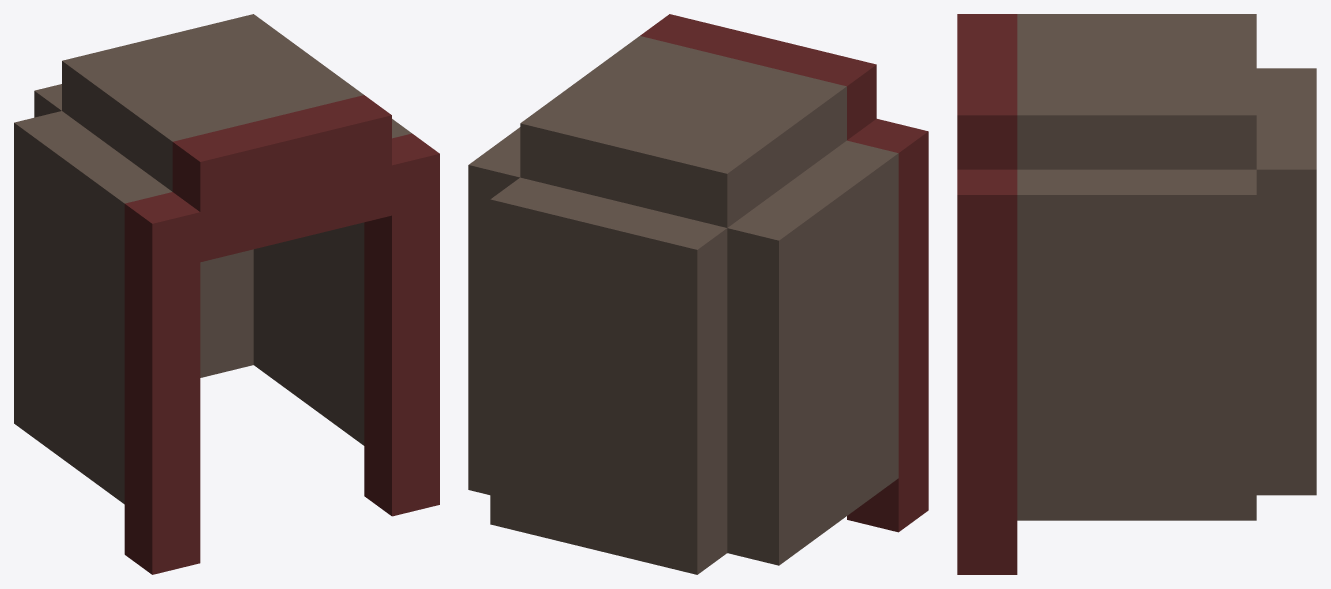
The model's file is char-120-helm_lgt_1a_du_color.obj.
The picture shows the model from 3 angles, left to right: view 1: azimuth 30°, elevation 25°; view 2: azimuth 150°, elevation 25°; view 3: azimuth 270°, elevation 25°; orthographic projection. The views are drawn at different scales.
Visible parts, largest first — view 1: helm_lgt_1a_du_color; view 2: helm_lgt_1a_du_color; view 3: helm_lgt_1a_du_color.
Boxes of the visible parts, x1,y1,x2,y2 form: helm_lgt_1a_du_color: (14, 14, 439, 574); helm_lgt_1a_du_color: (468, 14, 928, 574); helm_lgt_1a_du_color: (957, 14, 1316, 574).
Size of the model in its own units: 0.6 by 0.8 by 0.6.
1 material, 1 textured.
